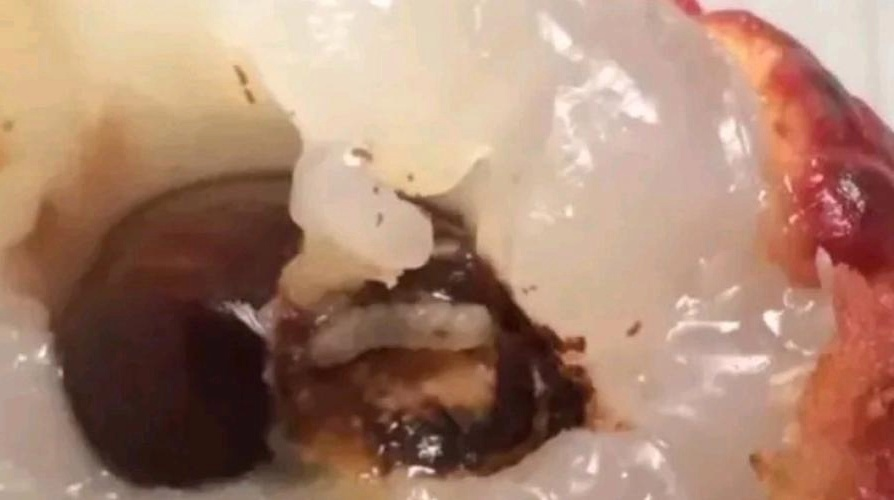Borer: (304, 283, 520, 367)
